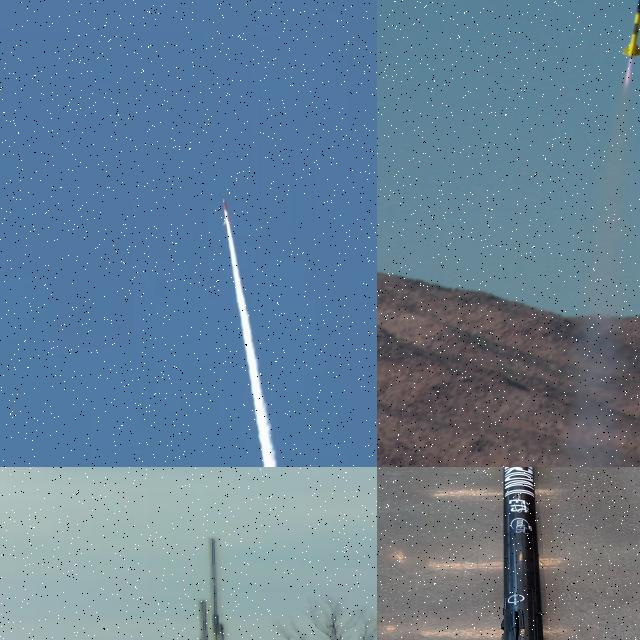Rocket: (501, 467, 545, 640), (621, 0, 640, 59), (222, 198, 230, 226)
